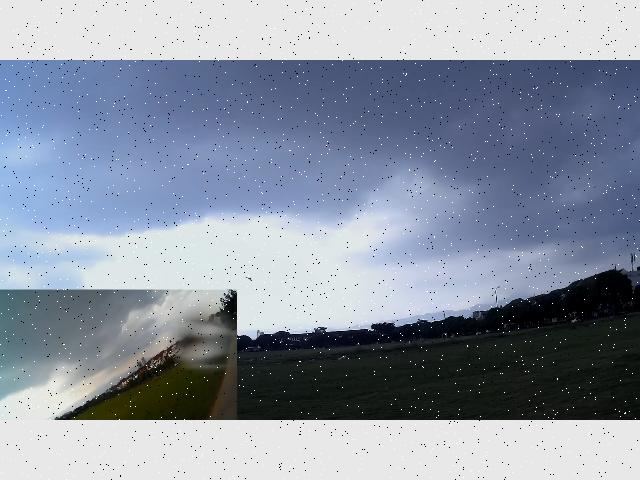Anti-Drone: (242, 272, 258, 284)
